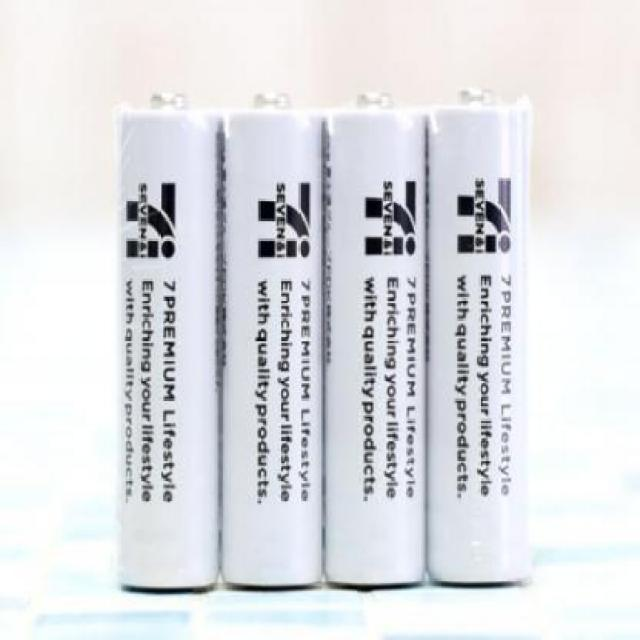hazardous waste: (112, 86, 223, 597), (424, 86, 534, 591), (218, 90, 324, 596), (324, 90, 428, 592)
